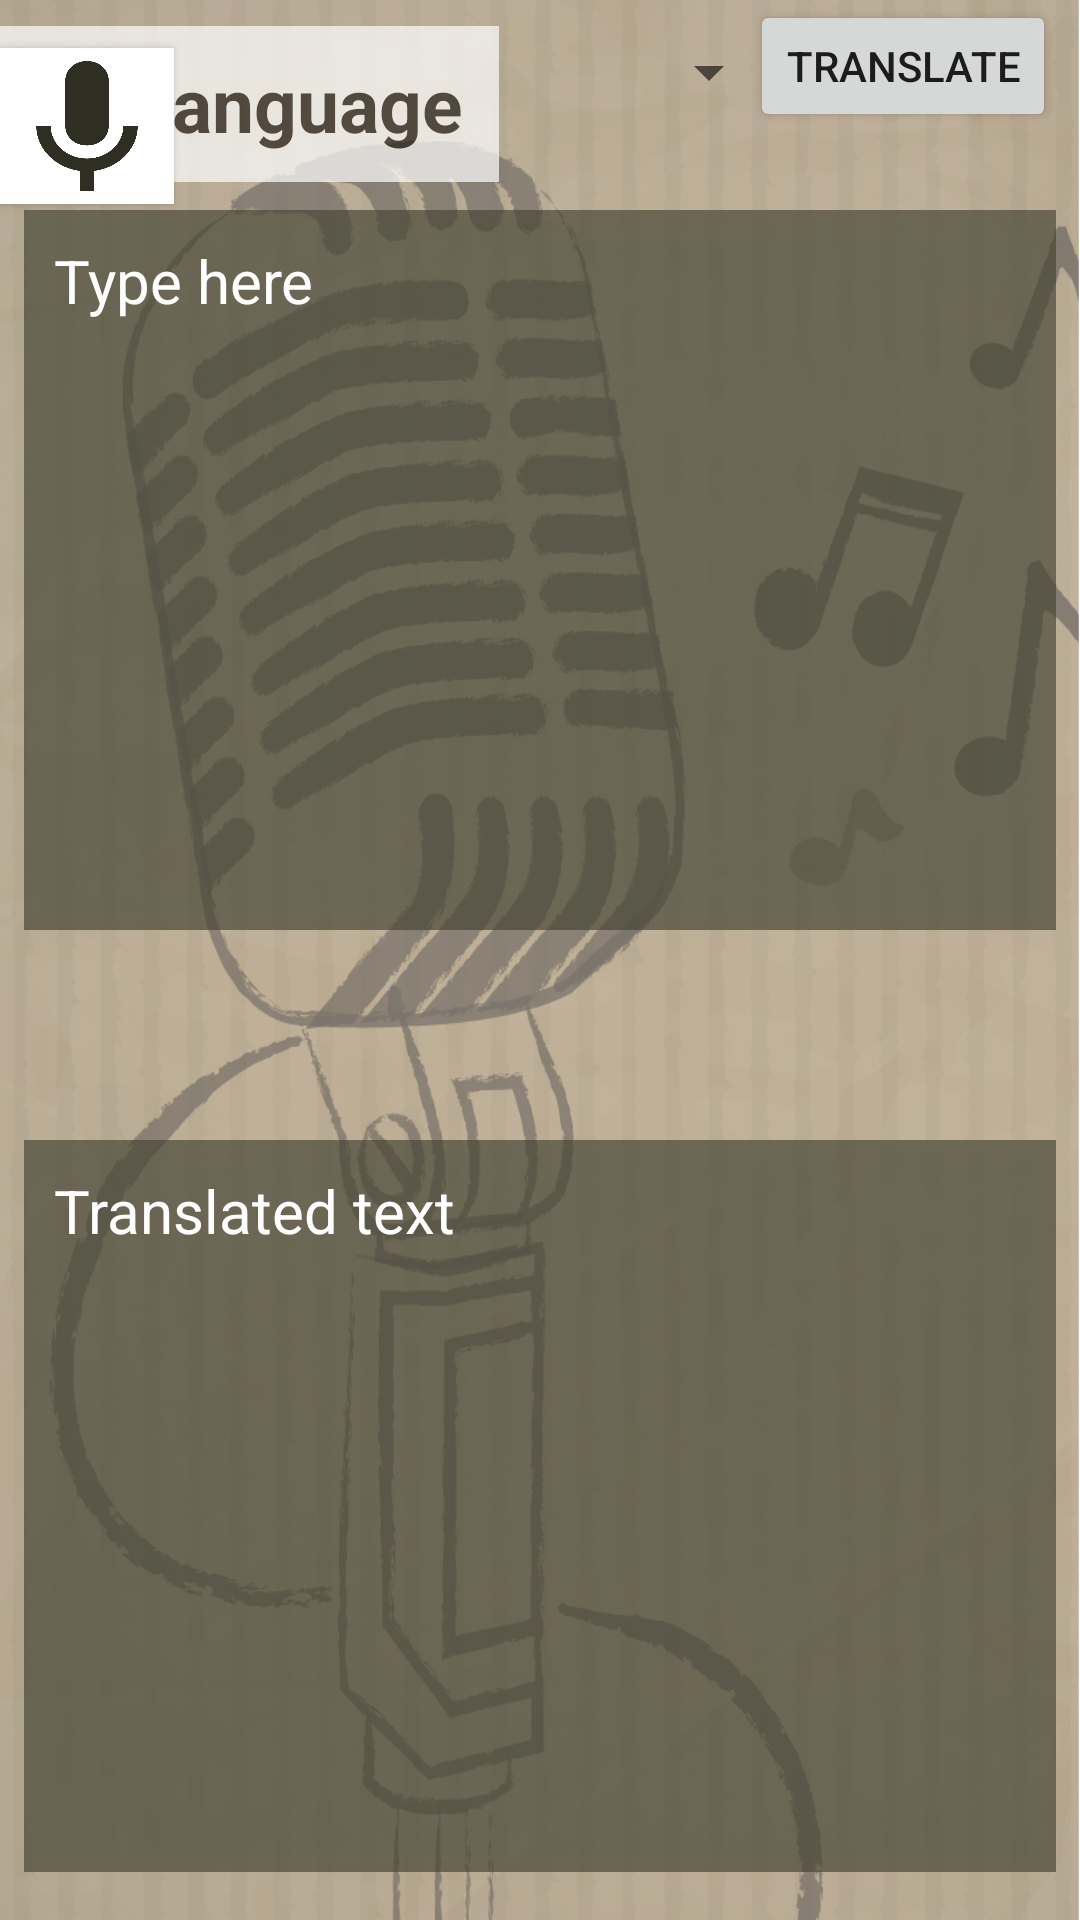

Icon click points for this 1080w x 1920h phone screenshot, format point (x, y):
mic: point (87, 126)
